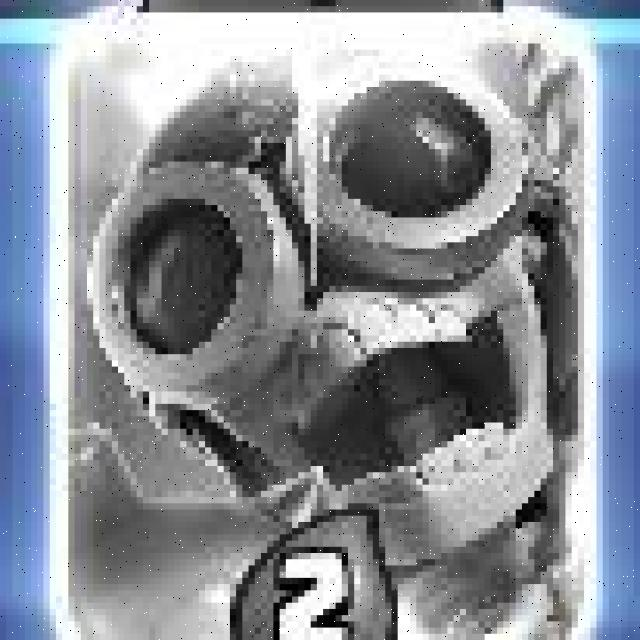Evolved_Bomber: (52, 9, 600, 640)
